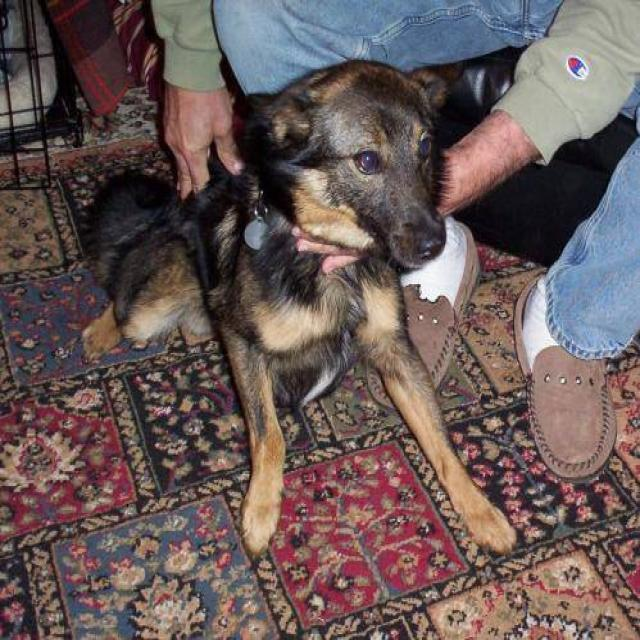dog: (78, 55, 518, 561)
